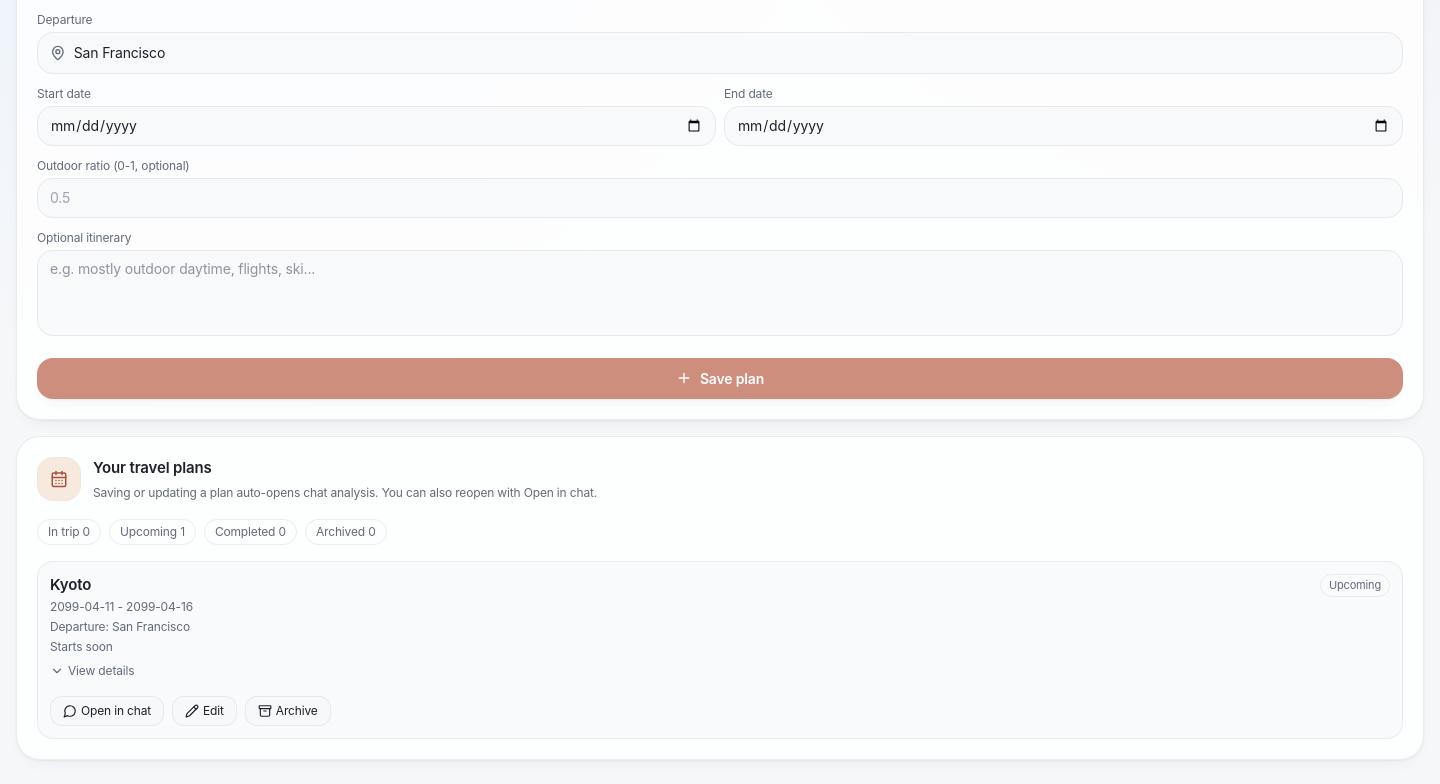
Test: Plans page behavior › uses responsive travel date classes in inline edit form
(page scrolled)
Expected: the text "Kyoto" is shown, [50, 575, 91, 594]
Click the button "Edit".
click(204, 710)  # box [172, 696, 237, 726]
(page scrolled)
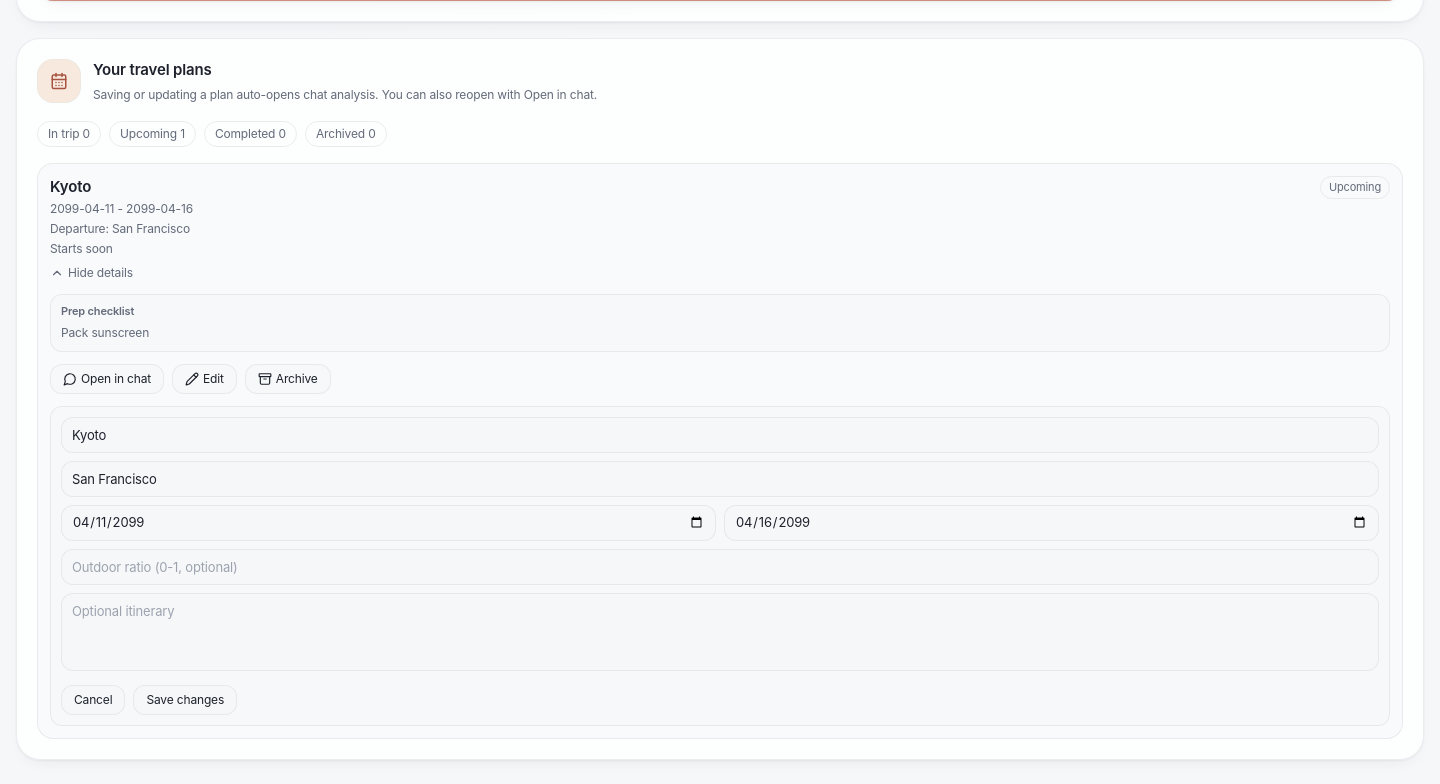
Now the element showing "2099-04-11" is shown, box [61, 504, 1379, 540]
